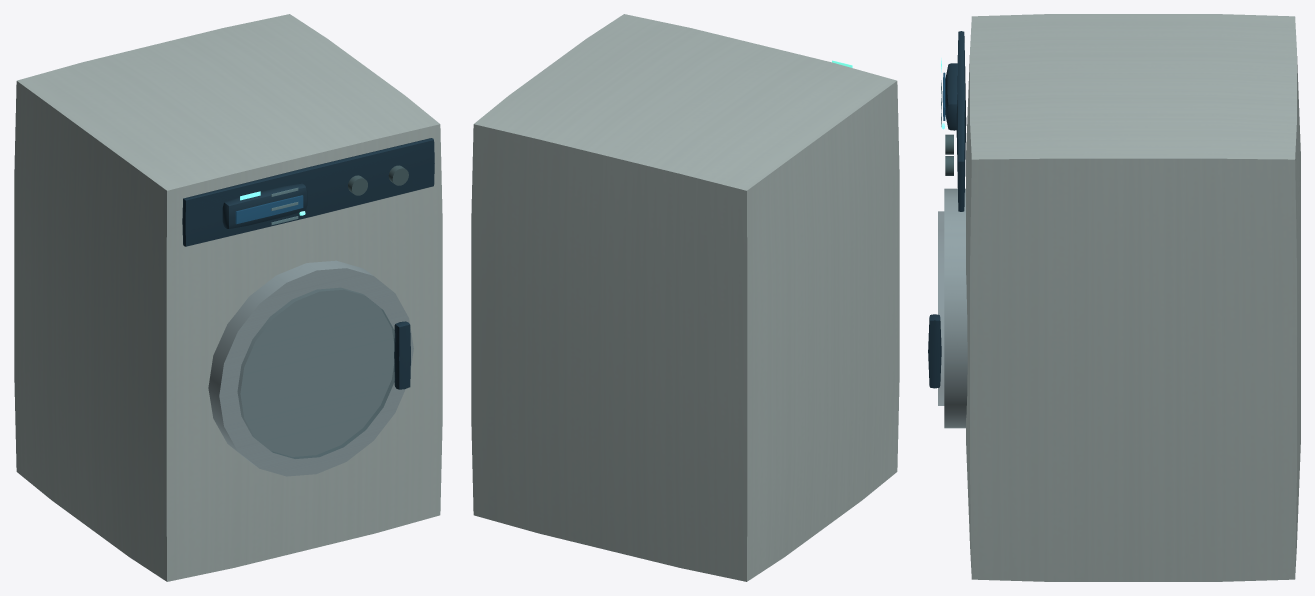
Rendered from commercial-washer.glb.
3 views of the same model, side by side, from view 1: azimuth 30°, elevation 25°; view 2: azimuth 150°, elevation 25°; view 3: azimuth 270°, elevation 25° (orthographic). The views are drawn at different scales.
Visible parts, largest first — view 1: commercial-washer; view 2: commercial-washer; view 3: commercial-washer.
Part boxes in pixels (x1,y1,x2,y2): commercial-washer: (14, 14, 442, 581); commercial-washer: (471, 14, 899, 581); commercial-washer: (928, 14, 1300, 581).
Size of the model in its own units: 0.9 by 1.22 by 0.9575.
16 materials, 16 textured.
